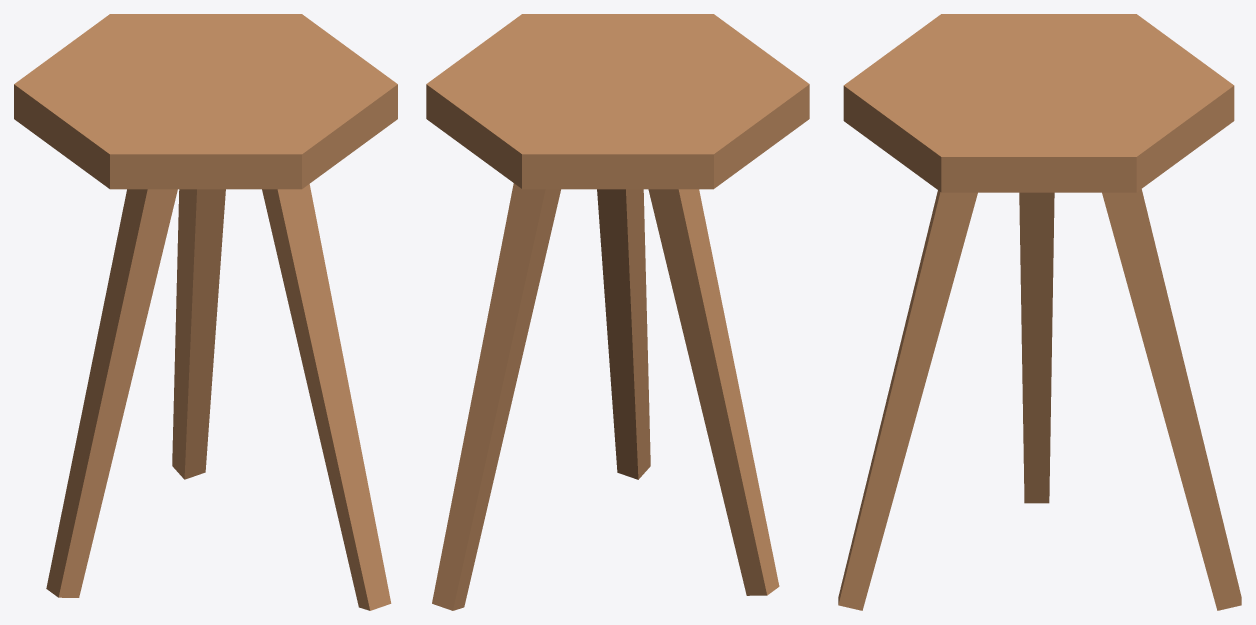
The model's file is chair.fbx.
The picture shows the model from 3 angles, left to right: view 1: azimuth 30°, elevation 25°; view 2: azimuth 150°, elevation 25°; view 3: azimuth 270°, elevation 25°; orthographic projection.
Visible parts, largest first — view 1: chair; view 2: chair; view 3: chair.
Boxes of the visible parts, x1,y1,x2,y2 form: chair: (14,14,397,610); chair: (426,14,809,610); chair: (838,14,1241,610).
Bounding box in the file's own units: 92.83 × 141 × 107.
